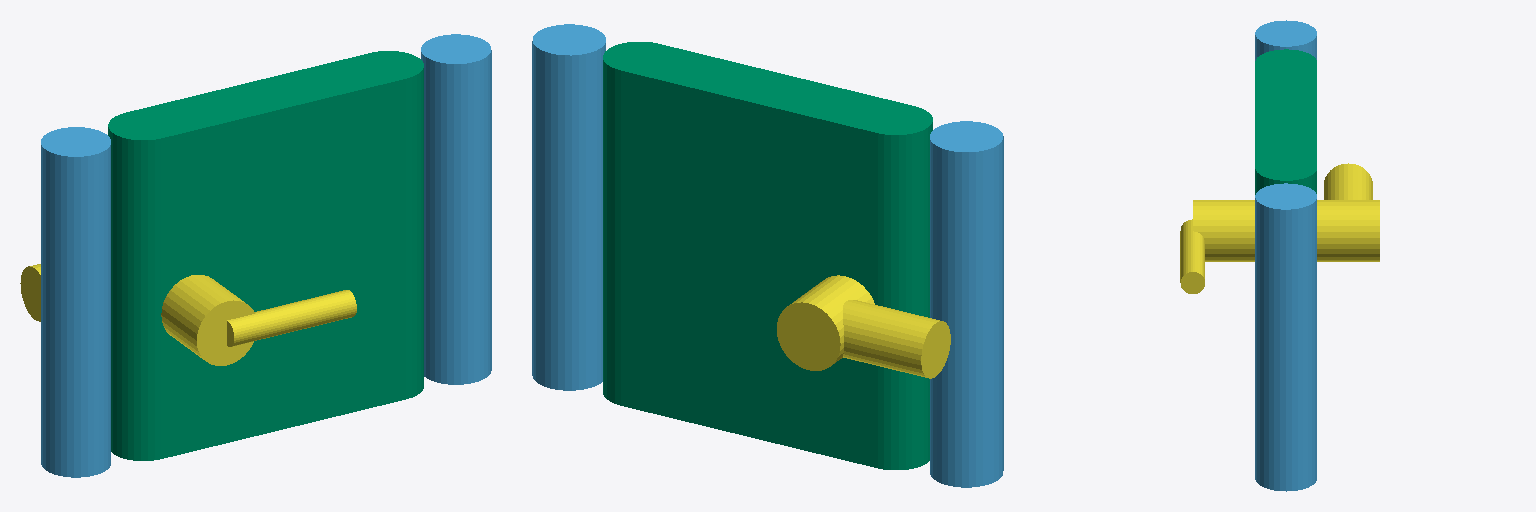
URDF robot description (adroit_door):
<?xml version="1.0" ?>
<robot name="adroit_door">

  <!-- MATERIALS -->
  <material name="MatWood">
   <texture filename="wood.png"/>
  </material>
  <material name="MatFoil">
    <!-- Bright Silver color -->
    <color rgba="0.65, 0.68, 0.72, 1.0"/>
  </material>
  <material name="MatSteel">
    <color rgba="0.3 0.3 0.3 1"/>
  </material>

  <!-- 
       ROOT LINK: WORLD 
       Used to align the door to the specific coordinates defined 
       in the original XML (pos="-0.107 0.043 0.447").
  -->
  <link name="world"/>

  <joint name="world_to_frame" type="fixed">
    <parent link="world"/>
    <child link="frame_link"/>
    <origin xyz="-0.107339 0.0435293 0.447376" rpy="0 0 0"/>
  </joint>

  <!-- LINK: DOOR FRAME -->
  <link name="frame_link">
    <inertial>
      <origin xyz="0.29 0 0" rpy="0 0 0"/>
      <mass value="7.85398"/>
      <inertia ixx="0.92" ixy="0" ixz="0" iyy="0.76" iyz="0" izz="0.16"/>
    </inertial>
    
    <!-- Right Post (Hinge Side) -->
    <!-- MJCF: pos 0.6, size 0.05 0.25 (r, h) -->
    <visual>
      <origin xyz="0.6 0 0" rpy="0 0 0"/>
      <geometry>
        <cylinder radius="0.05" length="0.5"/>
      </geometry>
      <material name="MatWood"/>
    </visual>
    <collision>
      <origin xyz="0.6 0 0" rpy="0 0 0"/>
      <geometry>
        <cylinder radius="0.05" length="0.5"/>
      </geometry>
    </collision>

    <!-- Left Post -->
    <!-- MJCF: pos -0.02 -->
    <visual>
      <origin xyz="-0.02 0 0" rpy="0 0 0"/>
      <geometry>
        <cylinder radius="0.05" length="0.5"/>
      </geometry>
      <material name="MatWood"/>
    </visual>
    <collision>
      <origin xyz="-0.02 0 0" rpy="0 0 0"/>
      <geometry>
        <cylinder radius="0.05" length="0.5"/>
      </geometry>
    </collision>
  </link>

  <!-- JOINT: HINGE -->
  <!-- 
       Calculated Origin: 
       MJCF Door Body Pos (0.29) + Joint Pos (0.31) = 0.60 
       This places the joint axis exactly at the Right Post.
  -->
  <joint name="door_hinge" type="revolute">
    <parent link="frame_link"/>
    <child link="door_panel"/>
    <origin xyz="0.6 0 0" rpy="0 0 0"/>
    <axis xyz="0 0 1"/>
    <limit lower="0" upper="1.57" effort="100" velocity="10"/>
    <dynamics damping="1.0" friction="2.0"/>
  </joint>

  <!-- LINK: MOVING DOOR PANEL -->
  <link name="door_panel">
    <inertial>
      <!-- Offset inertial pos by -0.31 (dist to pivot) -->
      <!-- Original: 0.029, New: 0.029 - 0.31 = -0.281 -->
      <origin xyz="-0.281 -0.0015 0" rpy="0 0 0"/>
      <mass value="2.43"/>
      <inertia ixx="0.09" ixy="0" ixz="0" iyy="0.05" iyz="0" izz="0.04"/>
    </inertial>

    <!-- Main Board -->
    <!-- Offset by -0.31 to shift body center away from pivot -->
    <visual>
      <origin xyz="-0.31 0 0" rpy="0 0 0"/>
      <geometry>
        <box size="0.4 0.1 0.5"/> 
      </geometry>
      <material name="MatWood"/>
    </visual>
    <collision>
      <origin xyz="-0.31 0 0" rpy="0 0 0"/>
      <geometry>
        <box size="0.4 0.1 0.5"/>
      </geometry>
    </collision>

    <!-- Inner Cylinder -->
    <!-- MJCF 0.2. New: 0.2 - 0.31 = -0.11 -->
    <visual>
      <origin xyz="-0.11 0 0" rpy="0 0 0"/>
      <geometry>
        <cylinder radius="0.05" length="0.5"/>
      </geometry>
      <material name="MatWood"/>
    </visual>

    <!-- Outer Cylinder -->
    <!-- MJCF -0.2. New: -0.2 - 0.31 = -0.51 -->
    <visual>
      <origin xyz="-0.51 0 0" rpy="0 0 0"/>
      <geometry>
        <cylinder radius="0.05" length="0.5"/>
      </geometry>
      <material name="MatWood"/>
    </visual>
  </link>

  <!-- JOINT: LATCH -->
  <!-- 
       Latch is at door_body local pos -0.15.
       In URDF frame (relative to hinge at 0.31), pos is -0.15 - 0.31 = -0.46
  -->
  <joint name="latch_joint" type="revolute">
    <parent link="door_panel"/>
    <child link="latch"/>
    <origin xyz="-0.46 0 -0.025" rpy="0 0 0"/>
    <axis xyz="0 1 0"/>
    <limit lower="0" upper="1.57" effort="50" velocity="10"/>
    <dynamics friction="5.0"/>
  </joint>

  <!-- LINK: HANDLE/LATCH -->
  <link name="latch">
    <inertial>
      <origin xyz="-0.017 0.013 0" rpy="0 0 0"/>
      <mass value="3.53"/>
      <inertia ixx="0.048" ixy="0" ixz="0" iyy="0.041" iyz="0" izz="0.011"/>
    </inertial>

    <!-- Horizontal Bar (Main Handle) -->
    <!-- Rotation X 90 degrees (1.57 rad) to align cylinder along Y -->
    <visual>
      <origin xyz="0 0 0" rpy="1.5708 0 0"/>
      <geometry>
        <cylinder radius="0.05" length="0.3"/> 
      </geometry>
      <material name="MatFoil"/>
    </visual>
    <collision>
      <origin xyz="0 0 0" rpy="1.5708 0 0"/>
      <geometry>
        <cylinder radius="0.05" length="0.3"/> 
      </geometry>
    </collision>

    <!-- Side Cap 1 -->
    <!-- Rot Y 90 deg -->
    <visual>
      <origin xyz="0.1 -0.15 0" rpy="0 1.5708 0"/>
      <geometry>
        <cylinder radius="0.02" length="0.2"/>
      </geometry>
      <material name="MatFoil"/>
    </visual>

    <!-- Side Cap 2 -->
    <!-- Rot Y 90 deg -->
    <visual>
      <origin xyz="-0.1 0.1 0" rpy="0 1.5708 0"/>
      <geometry>
        <cylinder radius="0.04" length="0.14"/>
      </geometry>
      <material name="MatFoil"/>
    </visual>
  </link>

</robot>

--- Render facts (derived) ---
3 views of the same robot in one strip: view 1: azimuth 30°, elevation 25°; view 2: azimuth 150°, elevation 25°; view 3: azimuth 270°, elevation 25° (orthographic).
Robot: adroit_door — 4 links, 3 joints (2 revolute, 1 fixed); root link world; default pose: every joint at zero.
Visible links, largest first — view 1: door_panel, frame_link, latch; view 2: door_panel, frame_link, latch; view 3: frame_link, latch, door_panel.
Link boxes in pixels (box(x1,y1,x2,y2)): door_panel: box(108, 51, 423, 460); frame_link: box(41, 34, 491, 477); latch: box(20, 264, 356, 365); door_panel: box(603, 42, 932, 469); frame_link: box(532, 24, 1003, 487); latch: box(777, 275, 950, 378); frame_link: box(1255, 20, 1316, 491); latch: box(1180, 163, 1379, 293); door_panel: box(1255, 49, 1316, 194).
Bounding box of the posed robot: 0.72 × 0.32 × 0.5 m (x, y, z).
Geometry: primitives only (box / cylinder / sphere), no mesh files.
